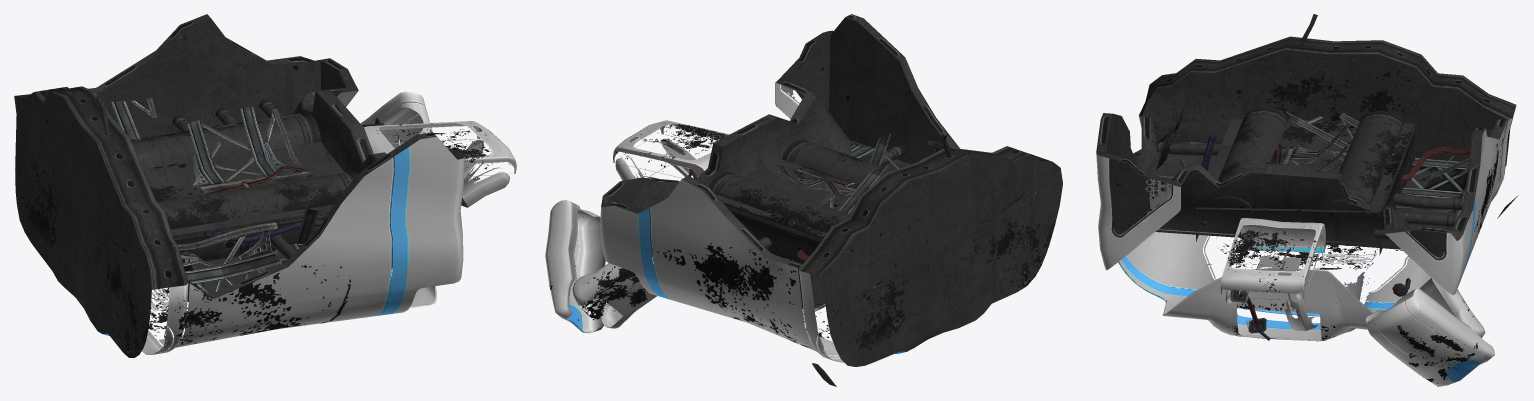
The model's file is PetFabricatorDamaged.fbx.
3 views of the same model, side by side, from view 1: azimuth 30°, elevation 25°; view 2: azimuth 150°, elevation 25°; view 3: azimuth 270°, elevation 25° (orthographic). The views are drawn at different scales.
Parts seen in each view (by area): view 1: PetFabricatorDamaged.001; view 2: PetFabricatorDamaged.001; view 3: PetFabricatorDamaged.001.
Boxes of the visible parts, left/top/right/bottom form: PetFabricatorDamaged.001: left=14, top=14, right=516, bottom=357; PetFabricatorDamaged.001: left=545, top=14, right=1062, bottom=386; PetFabricatorDamaged.001: left=1096, top=14, right=1518, bottom=386.
Bounding box in the file's own units: 127 × 72.72 × 122.
